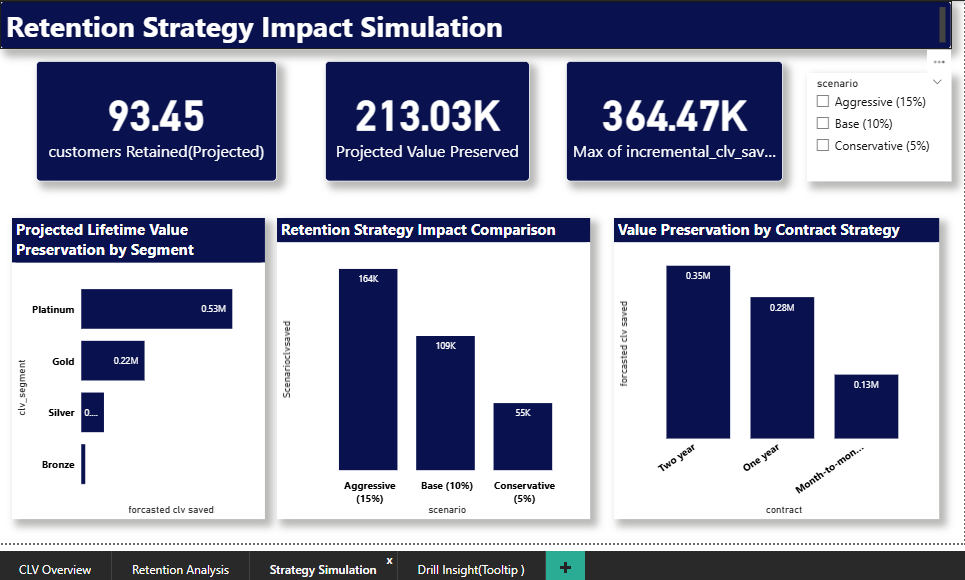

This screenshot's page, from the dashboard's own definition file:
{"tool":"powerbi","page":{"name":"Strategy Simulation","canvas":[1280,720],"ordinal":2},"visuals":[{"type":"card","fields":{"Values":["churn reduction % 2.customer saved"]},"box":[48,80,320,160],"z":0},{"type":"card","fields":{"Values":["churn reduction % 2.forcasted clv saved"]},"box":[432,80,272,160],"z":1000},{"type":"slicer","fields":{"Values":["churn scenario.scenario"]},"box":[1072,96,192,144],"z":2000},{"type":"clusteredBarChart","title":"Projected Lifetime Value Preservation by Segment","fields":{"Category":["customer_clv_segmented.clv_segment"],"Y":["churn reduction % 2.forcasted clv saved"]},"box":[16,288,336,400],"z":3000},{"type":"clusteredColumnChart","title":"Value Preservation by Contract Strategy","fields":{"Category":["customer_clv_segmented.contract"],"Y":["churn reduction % 2.forcasted clv saved"]},"box":[816,288,432,400],"z":4000},{"type":"card","fields":{"Values":["Max(clv_forecast_model.incremental_clv_saved)"]},"box":[752,80,288,160],"z":5000},{"type":"clusteredColumnChart","title":"Retention Strategy Impact Comparison","fields":{"Category":["churn scenario.scenario"],"Y":["churn reduction % 2.Scenarioclvsaved"]},"box":[368,288,416,400],"z":6000},{"type":"textbox","box":[0,0,1264,64],"z":7000}]}

Visuals, with their boxes on the page's 1280x720 design canvas (x1, y1, x2, y2). These are canvas units, not pixel positions in the 965x580 screenshot, which may show the page scaled, cropped or inside an application window:
card - churn reduction % 2.customer saved: <box>48,80,368,240</box>
card - churn reduction % 2.forcasted clv saved: <box>432,80,704,240</box>
slicer - churn scenario.scenario: <box>1072,96,1264,240</box>
"Projected Lifetime Value Preservation by Segment" clusteredBarChart: <box>16,288,352,688</box>
"Value Preservation by Contract Strategy" clusteredColumnChart: <box>816,288,1248,688</box>
card - Max(clv_forecast_model.incremental_clv_saved): <box>752,80,1040,240</box>
"Retention Strategy Impact Comparison" clusteredColumnChart: <box>368,288,784,688</box>
textbox: <box>0,0,1264,64</box>
